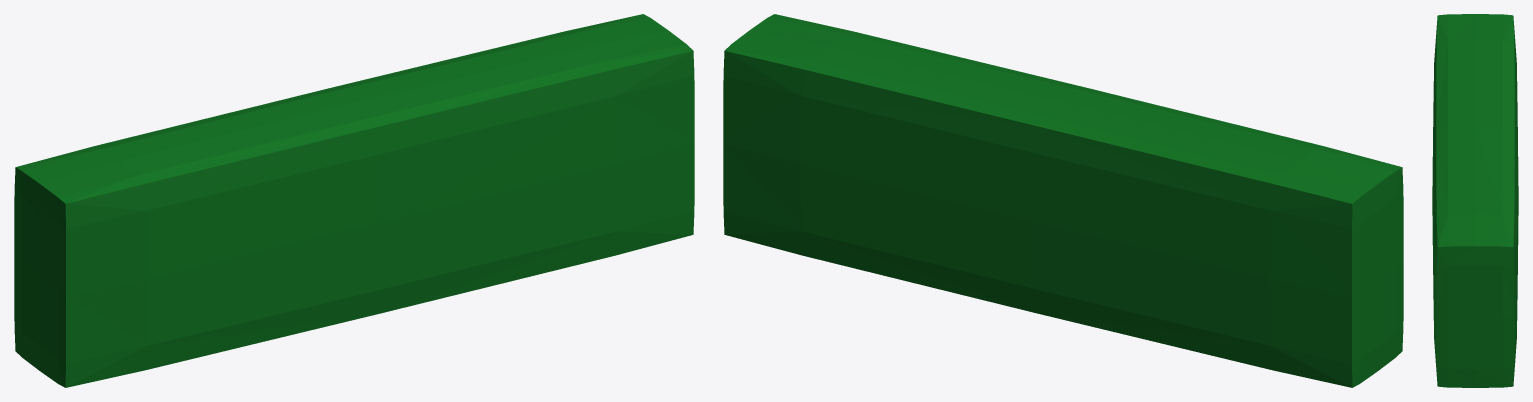
Rendered from hedge.obj.
3 renders of one model, left to right at view 1: azimuth 30°, elevation 25°; view 2: azimuth 150°, elevation 25°; view 3: azimuth 270°, elevation 25°, orthographic. The views are drawn at different scales.
Visible parts, largest first — view 1: little_hedge_out_Cube.003; view 2: little_hedge_out_Cube.003; view 3: little_hedge_out_Cube.003.
Part boxes in pixels (<box>): little_hedge_out_Cube.003: <box>14,14,694,387</box>; little_hedge_out_Cube.003: <box>723,14,1403,387</box>; little_hedge_out_Cube.003: <box>1432,14,1518,387</box>.
Size of the model in its own units: 4.65 by 1.38 by 0.7273.
